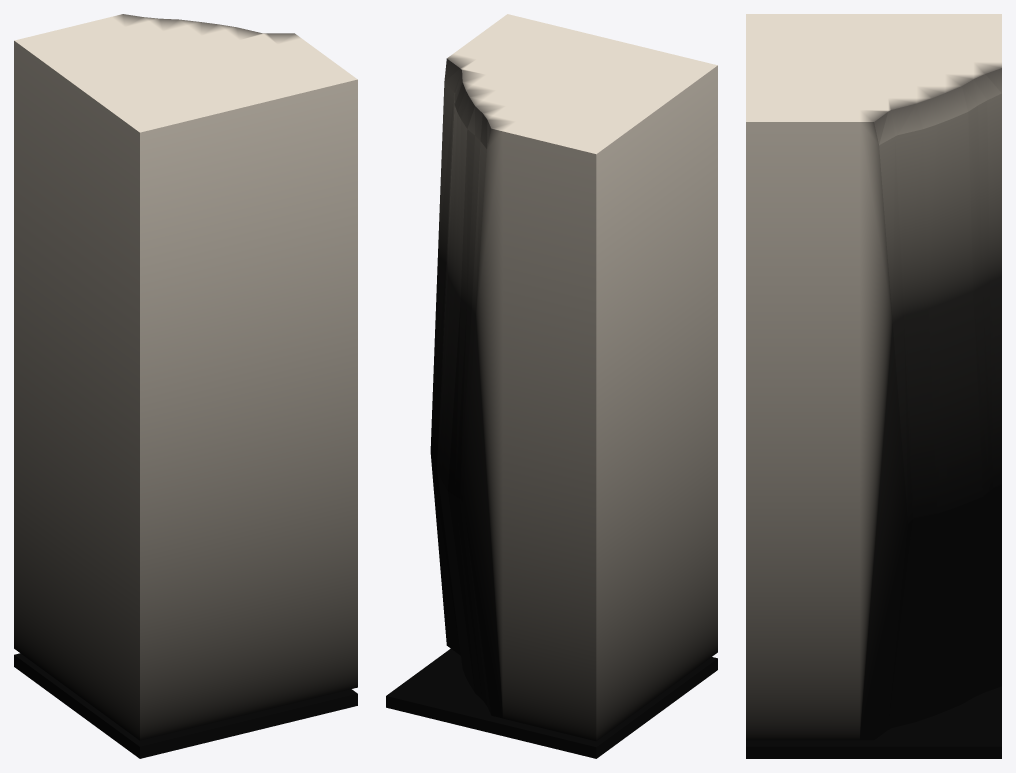
The model's file is SM_VKI_Ground_Cave_OOXO_Q11.fbx.
The picture shows the model from 3 angles, left to right: view 1: azimuth 30°, elevation 25°; view 2: azimuth 150°, elevation 25°; view 3: azimuth 270°, elevation 25°; orthographic projection. The views are drawn at different scales.
Visible parts, largest first — view 1: SM_VKI_Ground_Cave_OOXO_Q11.001; view 2: SM_VKI_Ground_Cave_OOXO_Q11.001; view 3: SM_VKI_Ground_Cave_OOXO_Q11.001.
Boxes of the visible parts, <box> form: SM_VKI_Ground_Cave_OOXO_Q11.001: <box>14,14,357,758</box>; SM_VKI_Ground_Cave_OOXO_Q11.001: <box>386,14,717,758</box>; SM_VKI_Ground_Cave_OOXO_Q11.001: <box>746,14,1001,758</box>.
Bounding box in the file's own units: 1.5 × 4.12 × 1.5.
